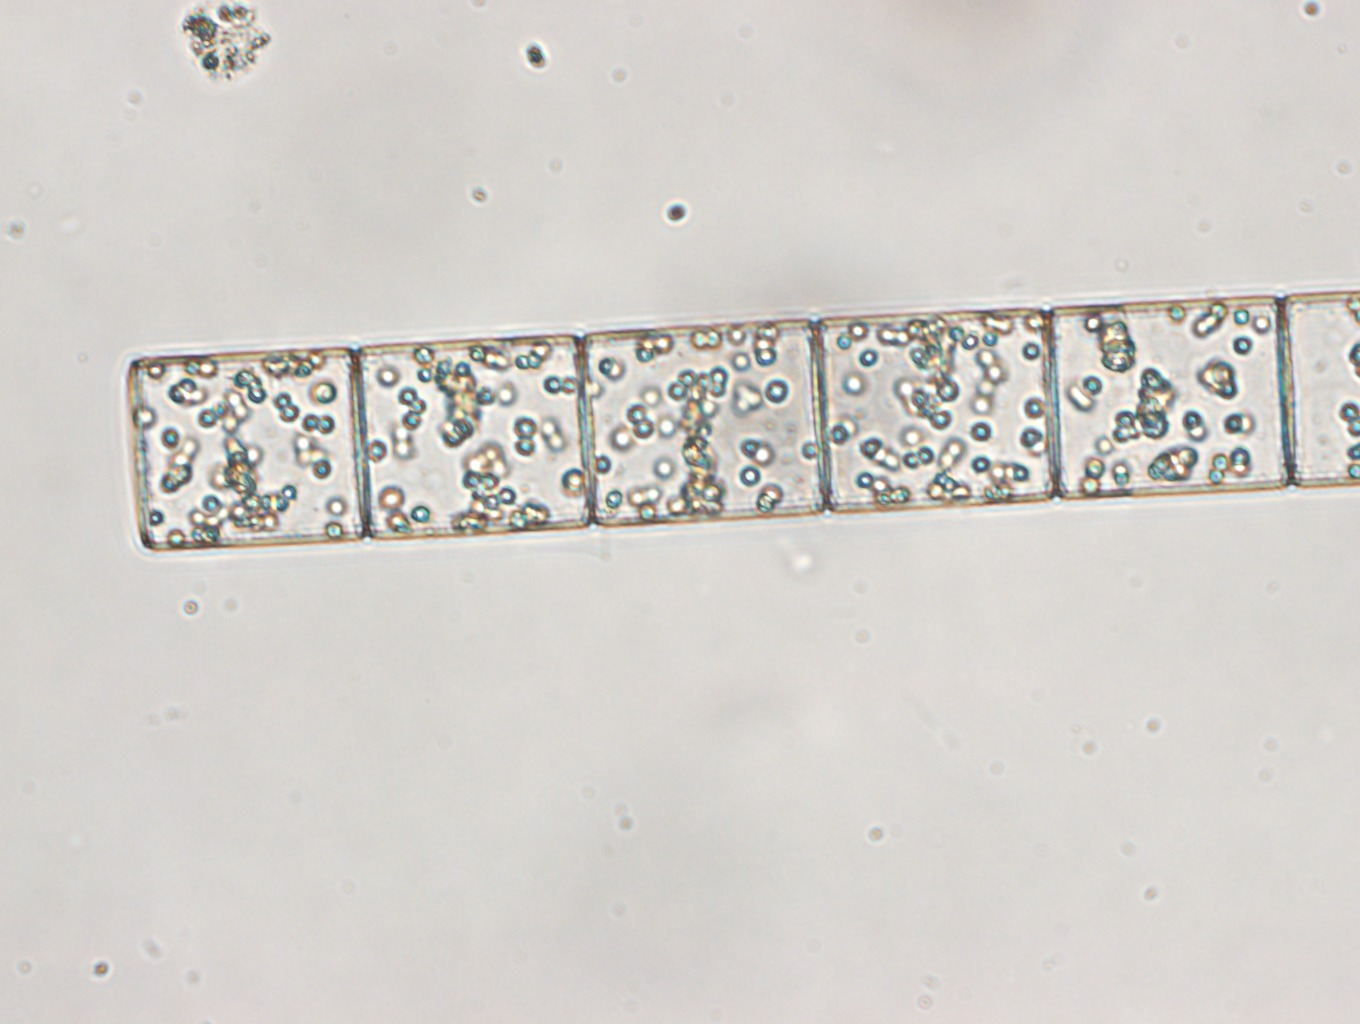guinardia flaccida: (126, 289, 1360, 555)
